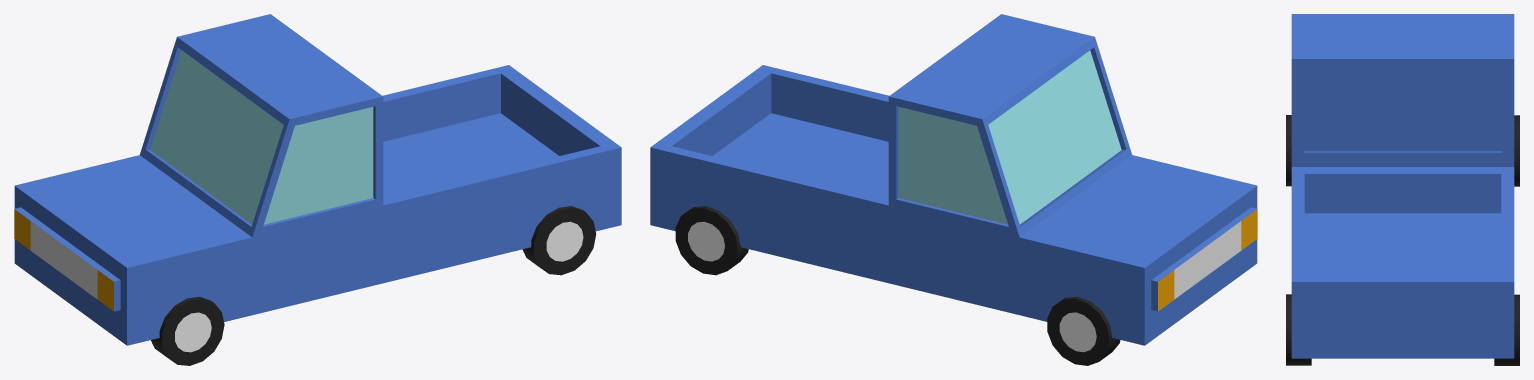
File: pickup.FBX
The picture shows the model from 3 angles, left to right: view 1: azimuth 30°, elevation 25°; view 2: azimuth 150°, elevation 25°; view 3: azimuth 270°, elevation 25°; orthographic projection.
Visible parts, largest first — view 1: Box03, Cylinder20, Cylinder21; view 2: Box03, Cylinder23, Cylinder22; view 3: Box03, Cylinder21, Cylinder23, Cylinder20, Cylinder22.
Part boxes in pixels (box(x1,y1,x2,y2)): Box03: box(14, 14, 621, 345); Cylinder20: box(151, 296, 224, 365); Cylinder21: box(522, 206, 596, 275); Box03: box(650, 14, 1257, 345); Cylinder23: box(675, 206, 748, 275); Cylinder22: box(1047, 296, 1120, 365); Box03: box(1291, 14, 1514, 358); Cylinder21: box(1286, 294, 1311, 365); Cylinder23: box(1494, 294, 1519, 365); Cylinder20: box(1286, 115, 1291, 186); Cylinder22: box(1514, 115, 1519, 186).
Bounding box in the file's own units: 79.31 × 33.21 × 32.42.
